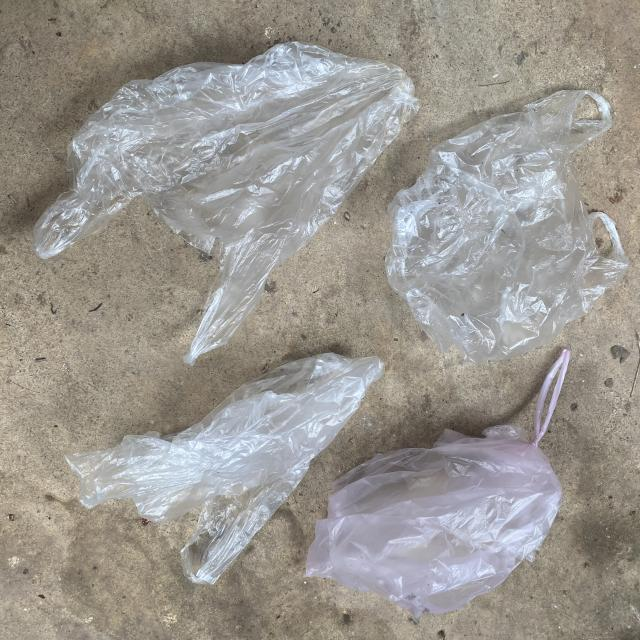Single-layer Plastic: (32, 42, 419, 364), (66, 354, 384, 584), (306, 349, 570, 616), (386, 90, 628, 362)
